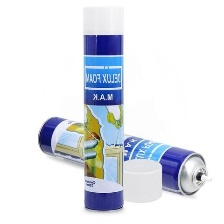aerosol_cans: (35, 111, 215, 200), (80, 3, 128, 216)
